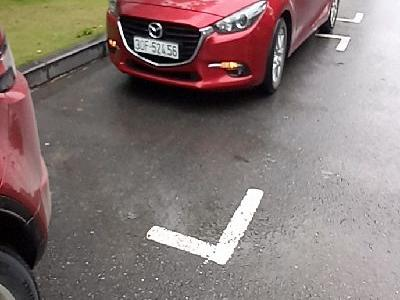car: (132, 35, 179, 59)
